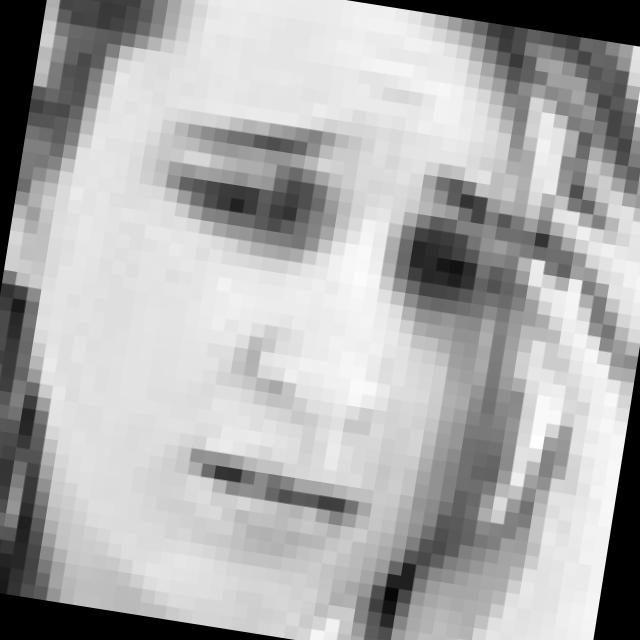sad: (80, 89, 542, 594)
